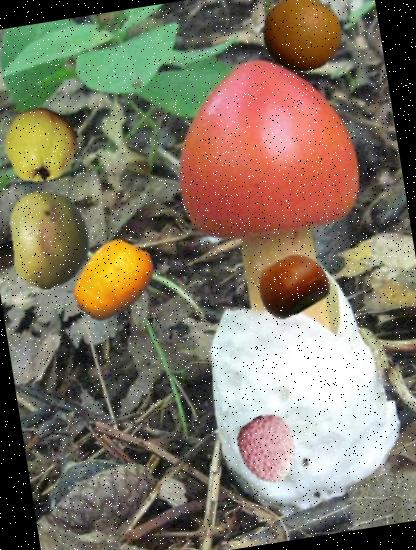Kumquats: (63, 229, 164, 330)
Lychee: (229, 410, 308, 488)
Nut: (251, 244, 332, 325)
Orange: (254, 0, 347, 80)
Pomelo: (0, 183, 106, 296)
Quince: (0, 101, 86, 188)
